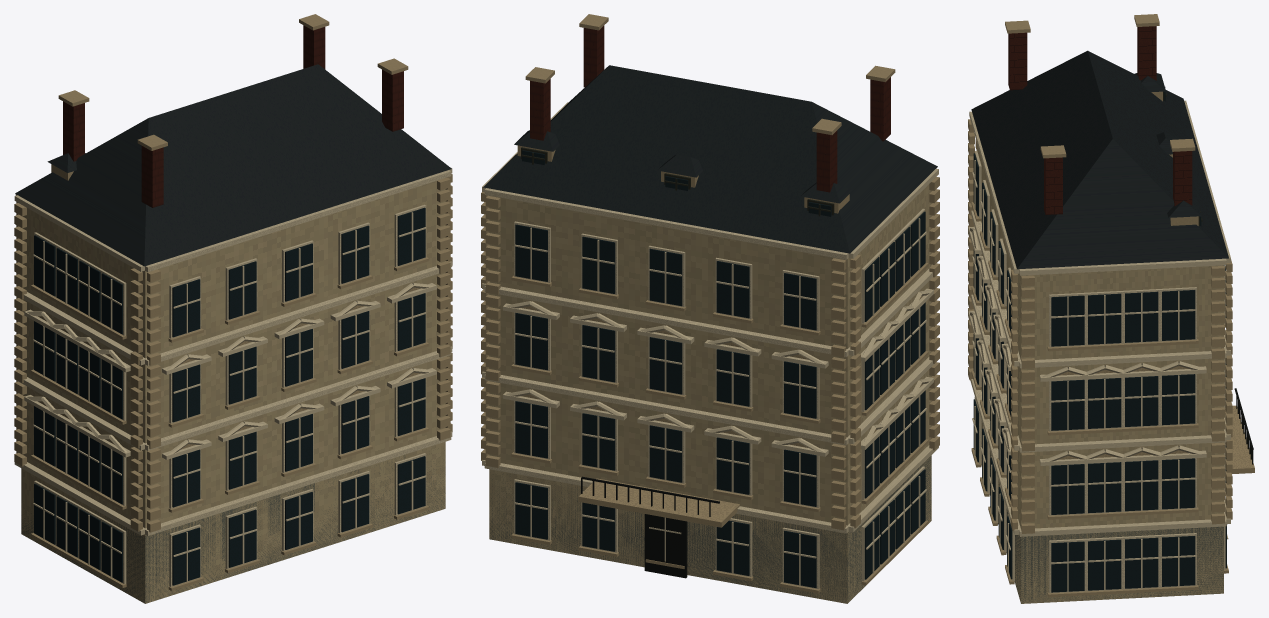
The picture shows the model from 3 angles, left to right: view 1: azimuth 30°, elevation 25°; view 2: azimuth 150°, elevation 25°; view 3: azimuth 270°, elevation 25°; orthographic projection. The views are drawn at different scales.
Visible parts, largest first — view 1: hotel-victoria-0, hotel-victoria-2, hotel-victoria-4, hotel-victoria-3, hotel-victoria-5, hotel-victoria-1, hotel-victoria-8; view 2: hotel-victoria-0, hotel-victoria-2, hotel-victoria-4, hotel-victoria-3, hotel-victoria-5, hotel-victoria-1, hotel-victoria-8, hotel-victoria-7, hotel-victoria-6; view 3: hotel-victoria-2, hotel-victoria-4, hotel-victoria-3, hotel-victoria-0, hotel-victoria-5, hotel-victoria-1, hotel-victoria-8, hotel-victoria-7.
Boxes of the visible parts, x1,y1,x2,y2 form: hotel-victoria-0: (21, 181, 445, 603); hotel-victoria-2: (15, 64, 451, 266); hotel-victoria-4: (34, 207, 425, 585); hotel-victoria-3: (14, 167, 452, 586); hotel-victoria-5: (14, 14, 452, 590); hotel-victoria-1: (21, 448, 445, 603); hotel-victoria-8: (63, 25, 403, 207); hotel-victoria-0: (489, 184, 931, 603); hotel-victoria-2: (483, 65, 937, 253); hotel-victoria-4: (515, 150, 925, 587); hotel-victoria-3: (482, 102, 938, 588); hotel-victoria-5: (481, 14, 939, 593); hotel-victoria-1: (489, 456, 931, 603); hotel-victoria-8: (530, 25, 890, 192); hotel-victoria-7: (581, 476, 719, 578); hotel-victoria-6: (521, 147, 834, 216); hotel-victoria-2: (971, 50, 1228, 269); hotel-victoria-4: (973, 91, 1226, 592); hotel-victoria-3: (968, 100, 1231, 593); hotel-victoria-0: (976, 142, 1223, 603); hotel-victoria-5: (968, 14, 1254, 597); hotel-victoria-1: (981, 423, 1223, 603); hotel-victoria-8: (1008, 26, 1192, 214); hotel-victoria-7: (1234, 388, 1253, 464).
Size of the model in its own units: 22.09 by 25.9 by 15.44.
Materials: 9 (9 with a texture image).
